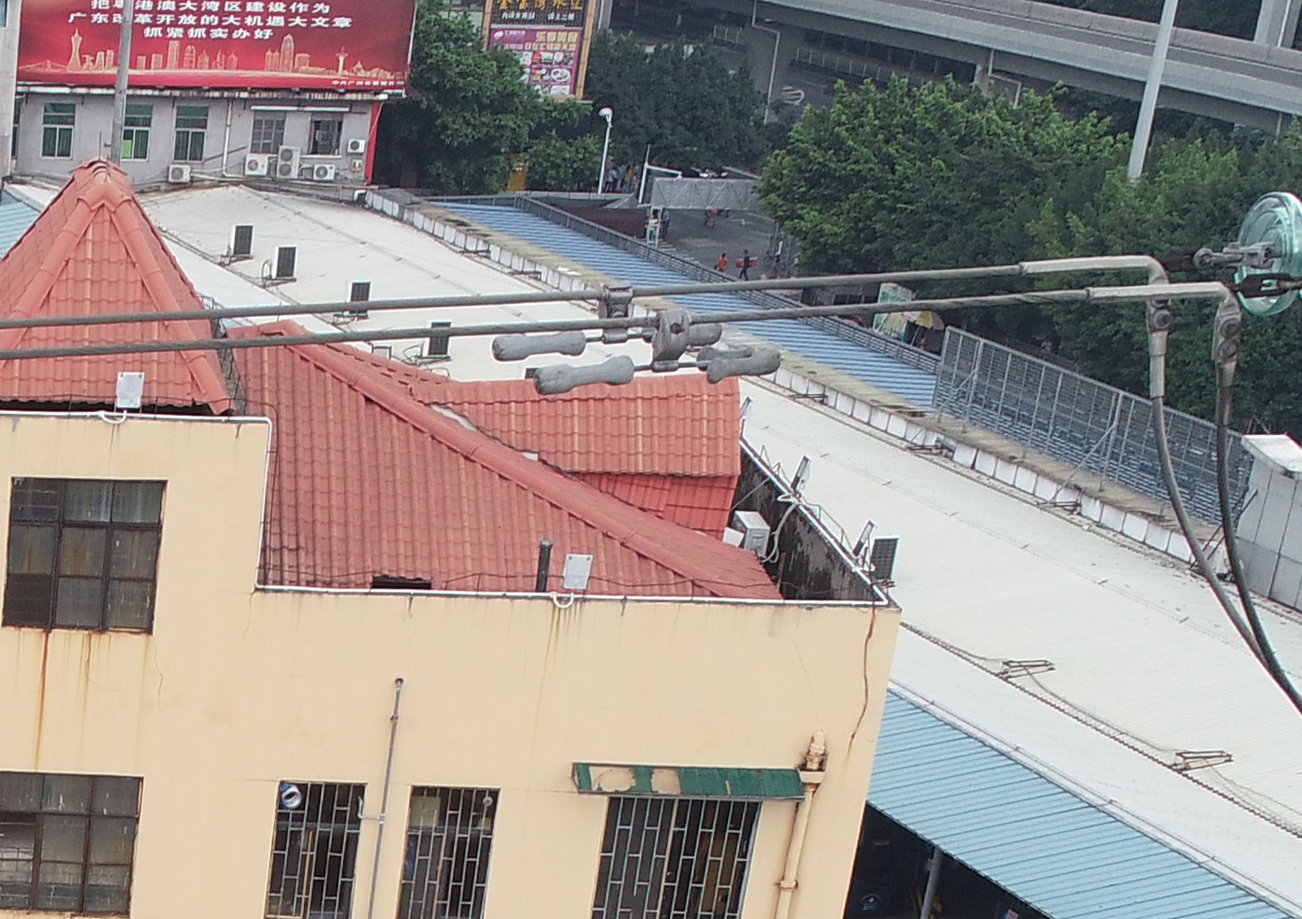damper: (533, 309, 788, 398), (489, 280, 725, 363)
